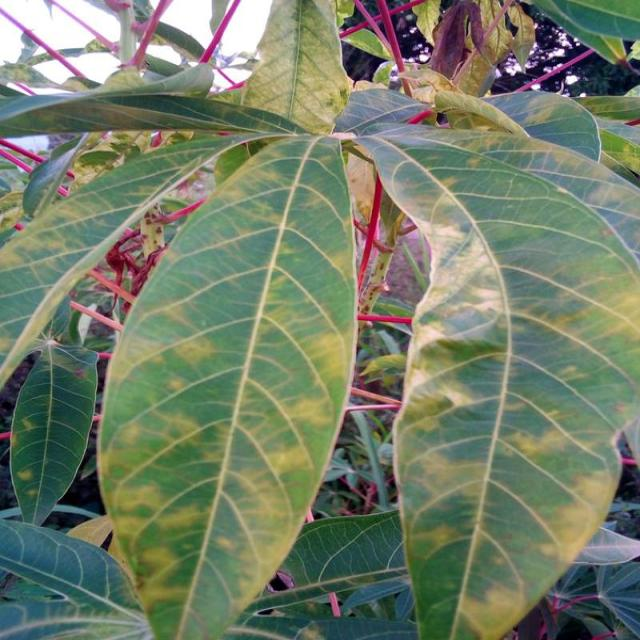cassava leaf: (348, 108, 638, 638), (95, 131, 359, 638), (9, 340, 98, 526)
